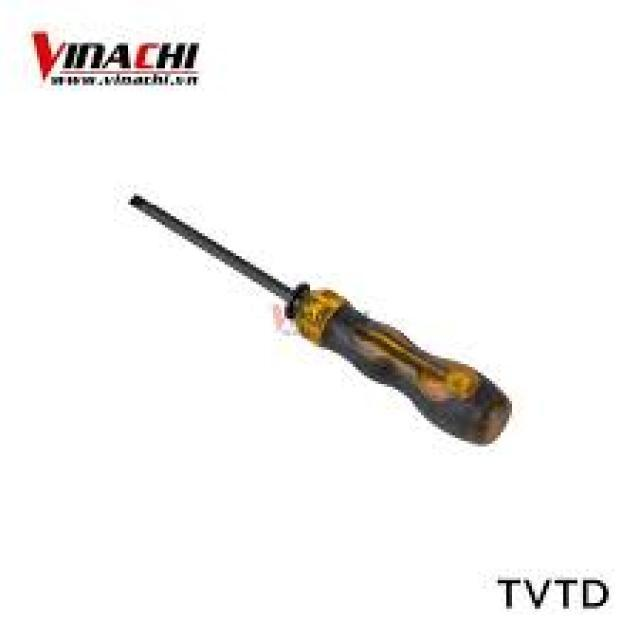screwdriver: (124, 190, 516, 460)
